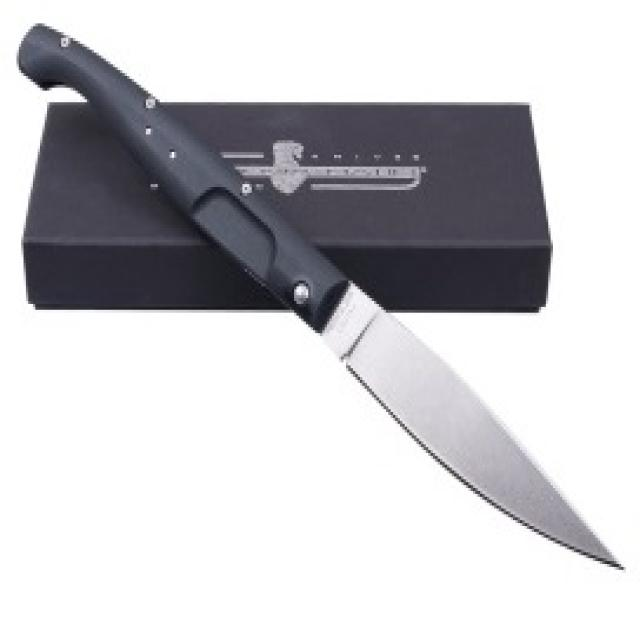knife: (12, 12, 638, 581)
